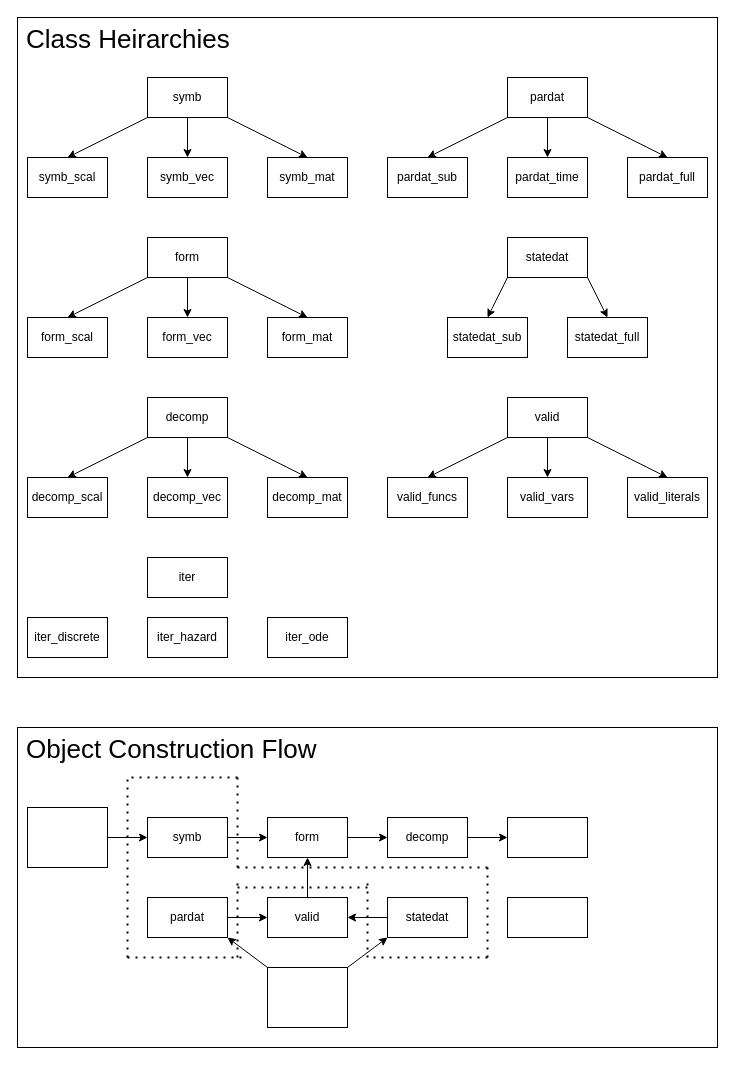
The diagram is 735 pixels wide and 1065 high, and some of its shapes have lost their labels. The shapes that lost their labels are listed below. From the top down, each one's centre as x and y in pixels, then its label:
At point 67,837: "character vectors & matrices".
At point 547,837: "c++ engine".
At point 547,917: "ratedat".
At point 307,997: "csv model definition files".
